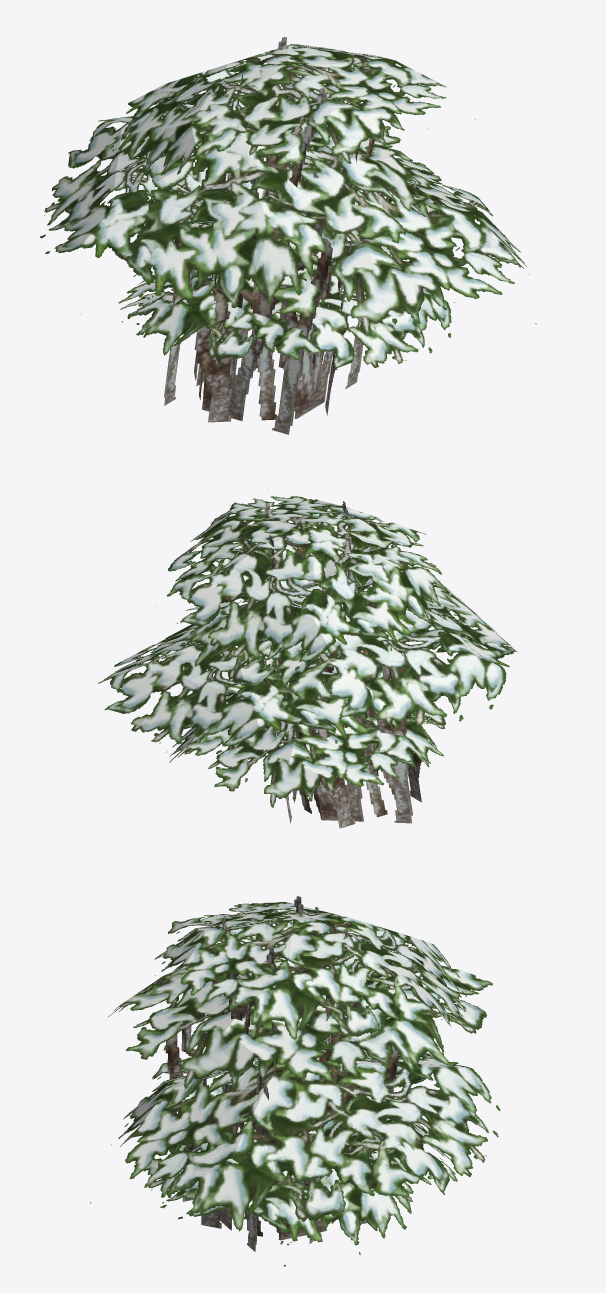
Rendered from C1SNMSHRUBSN01_H.bgf.obj.
The picture shows the model from 3 angles, top to bottom: view 1: azimuth 30°, elevation 25°; view 2: azimuth 150°, elevation 25°; view 3: azimuth 270°, elevation 25°; orthographic projection. The views are drawn at different scales.
Visible parts, largest first — view 1: C1SNMSHRUBSN01; view 2: C1SNMSHRUBSN01; view 3: C1SNMSHRUBSN01.
Part boxes in pixels (bbox=[...]): C1SNMSHRUBSN01: bbox=[40, 37, 536, 434]; C1SNMSHRUBSN01: bbox=[98, 496, 518, 828]; C1SNMSHRUBSN01: bbox=[90, 896, 500, 1266].
Bounding box in the file's own units: 5.4 × 3.09 × 4.85.
2 materials, 2 textured.
